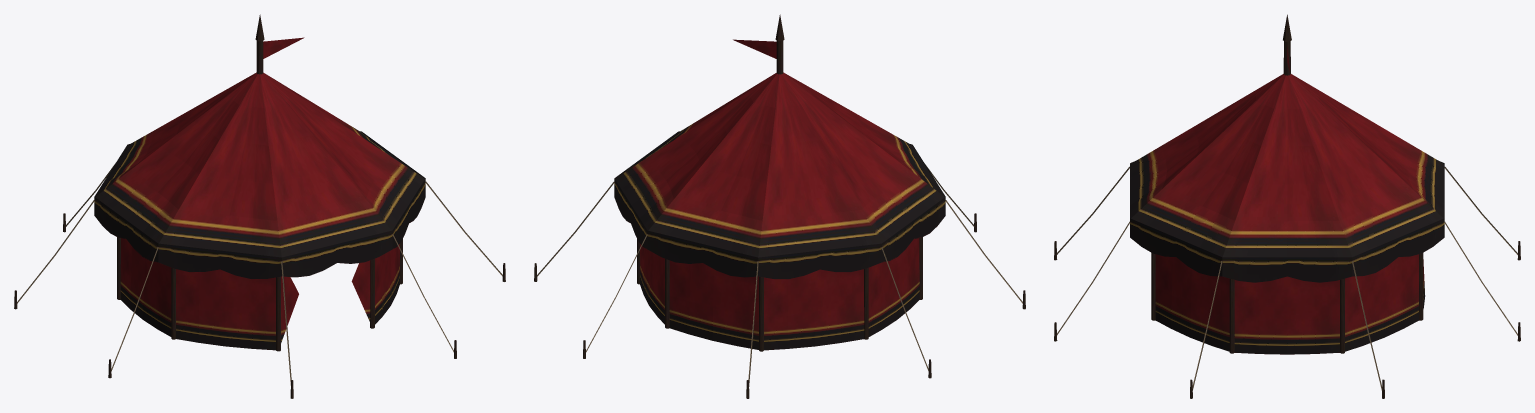
File: demon_tent.glb
The picture shows the model from 3 angles, left to right: view 1: azimuth 30°, elevation 25°; view 2: azimuth 150°, elevation 25°; view 3: azimuth 270°, elevation 25°; orthographic projection.
Visible parts, largest first — view 1: TentCloth, TentPoles, TentRopes; view 2: TentCloth, TentPoles, TentRopes; view 3: TentCloth, TentPoles, TentRopes.
Boxes of the visible parts, bbox=[...] form: TentCloth: bbox=[94, 72, 425, 350]; TentPoles: bbox=[14, 14, 505, 398]; TentRopes: bbox=[17, 164, 502, 385]; TentCloth: bbox=[614, 72, 945, 350]; TentPoles: bbox=[534, 14, 1025, 398]; TentRopes: bbox=[537, 164, 1022, 386]; TentCloth: bbox=[1130, 74, 1444, 354]; TentPoles: bbox=[1054, 14, 1520, 398]; TentRopes: bbox=[1057, 166, 1517, 390].
Size of what is drawn, in the model's own units: 8.09 by 5.48 by 8.09.
3 materials, 3 textured.
